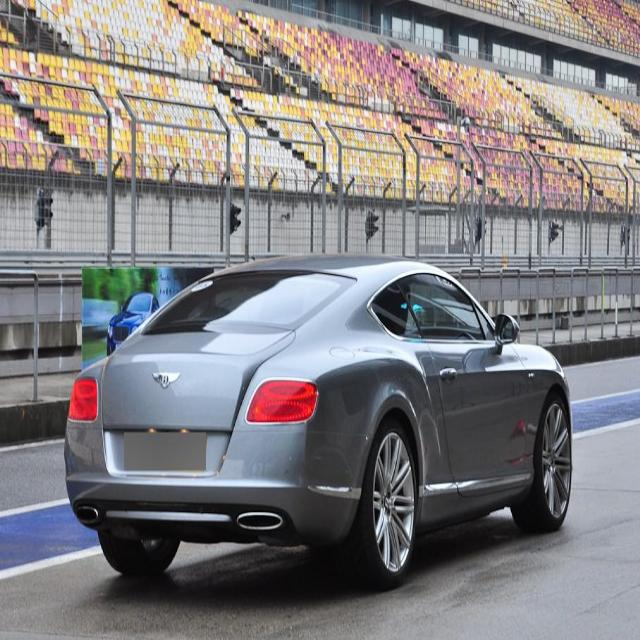back_glass: (133, 267, 360, 340)
back_left_side_light: (65, 367, 106, 426)
back_right_side_light: (246, 376, 320, 426)
front_right_side_door: (402, 262, 526, 505)
front_right_side_mirror: (492, 304, 522, 352)
rear_bumper: (63, 419, 365, 542)
wheel: (360, 423, 418, 579), (528, 392, 574, 526), (100, 534, 188, 572)
